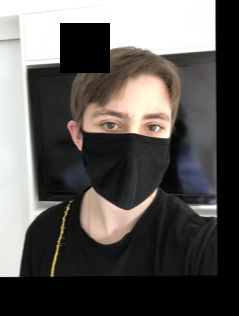with_mask: (80, 92, 171, 211)
